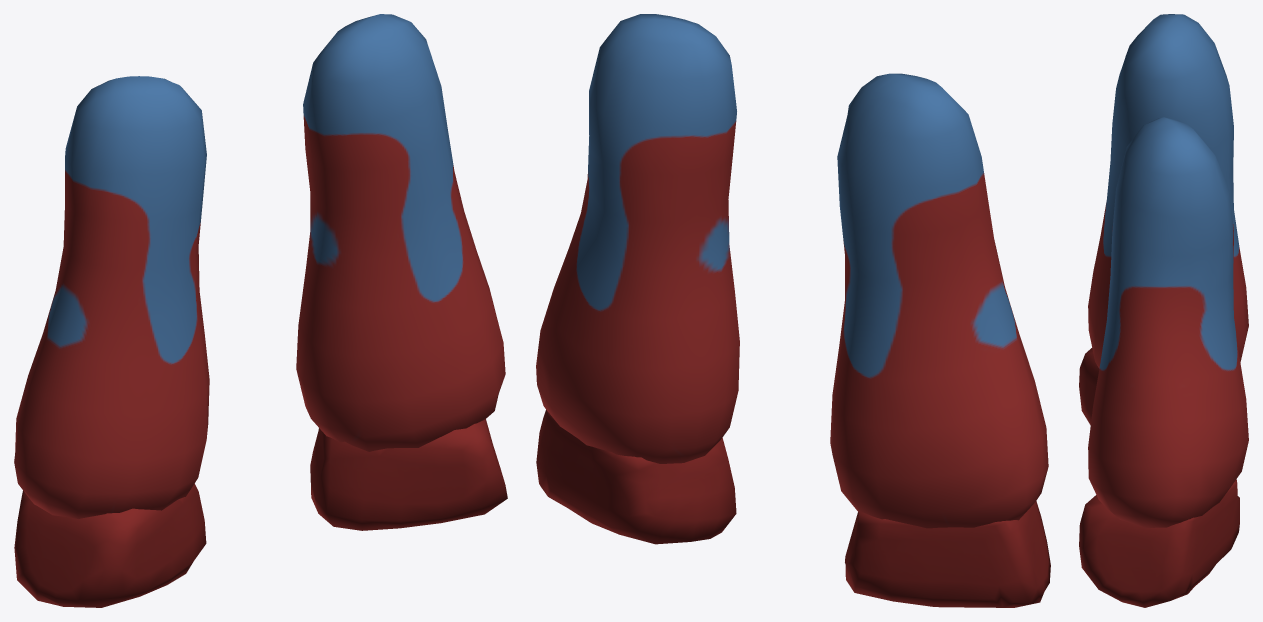
The model's file is devil_leg2.fbx.
The picture shows the model from 3 angles, left to right: view 1: azimuth 30°, elevation 25°; view 2: azimuth 150°, elevation 25°; view 3: azimuth 270°, elevation 25°; orthographic projection. The views are drawn at different scales.
Visible parts, largest first — view 1: leg4_leg2; view 2: leg4_leg2; view 3: leg4_leg2.
Boxes of the visible parts, x1,y1,x2,y2 form: leg4_leg2: (14, 14, 507, 607); leg4_leg2: (536, 14, 1050, 607); leg4_leg2: (1079, 14, 1248, 607).
Bounding box in the file's own units: 1.73 × 1.7 × 0.5986.
